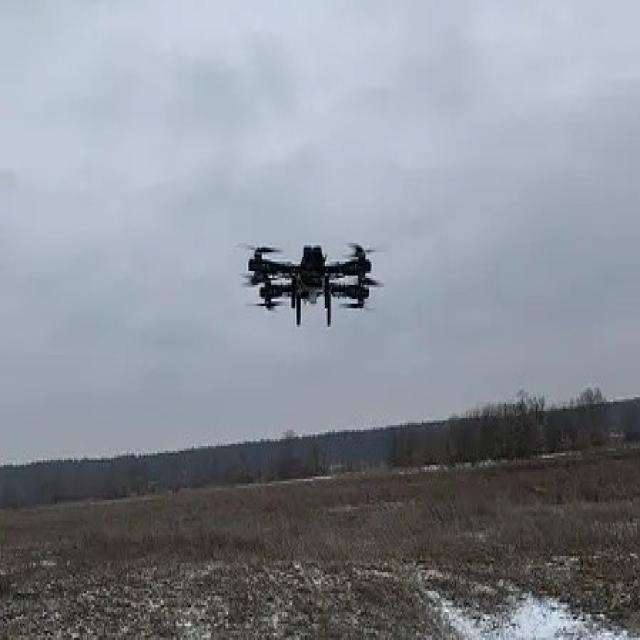drone: (231, 236, 390, 334)
